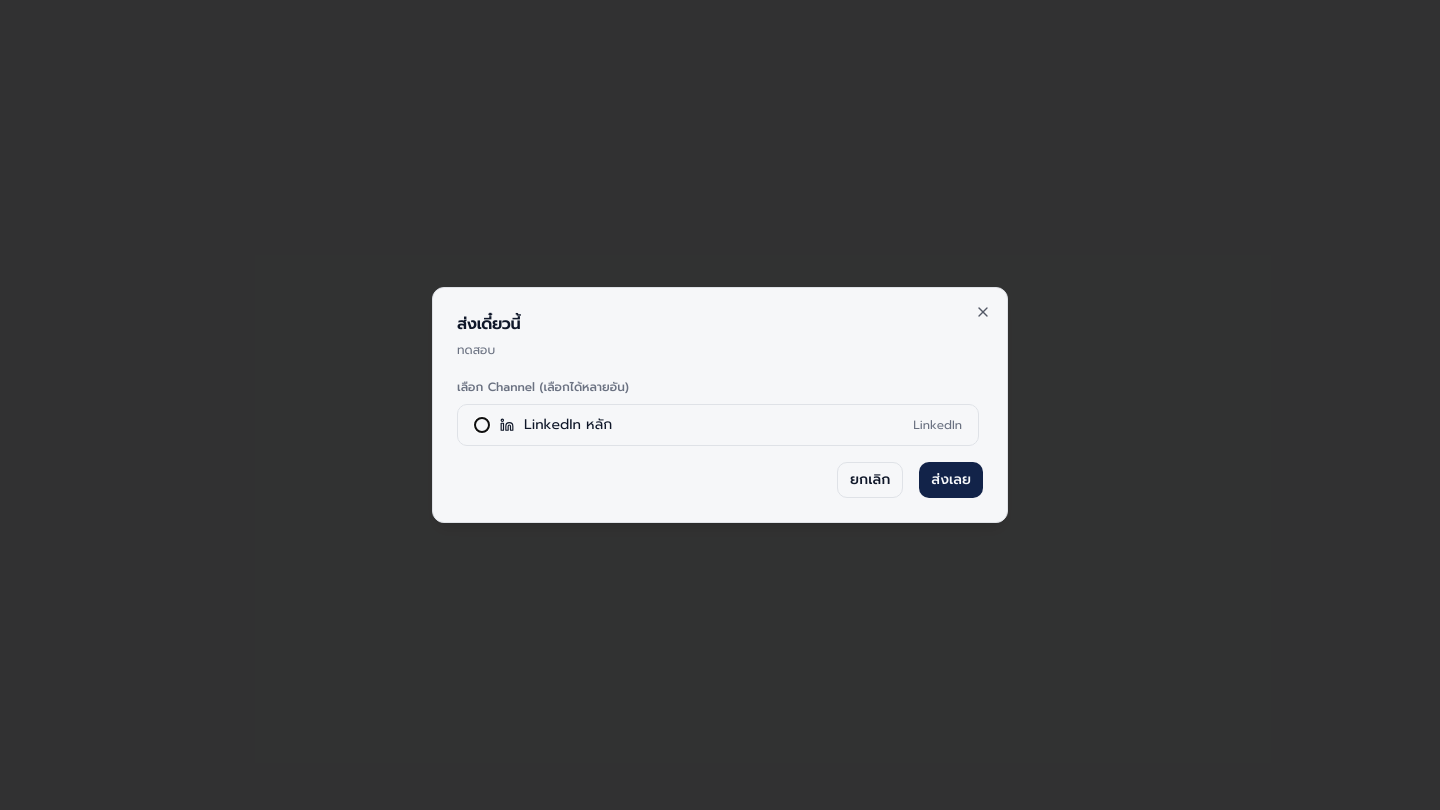
Test case: SchedulePublishDialog — ตัวอย่างข้อความโพสต์แบบอ่านอย่างเดียว › ไม่มีข้อความของ platform ที่เลือก → แสดงข้อความโพสต์สำรองพร้อมป้ายแหล่งที่มา
What coordinates should you click on to do the following:
click the checkbox
I would click on:
 (482, 425)
Its box is x1=474 y1=417 x2=490 y2=433.
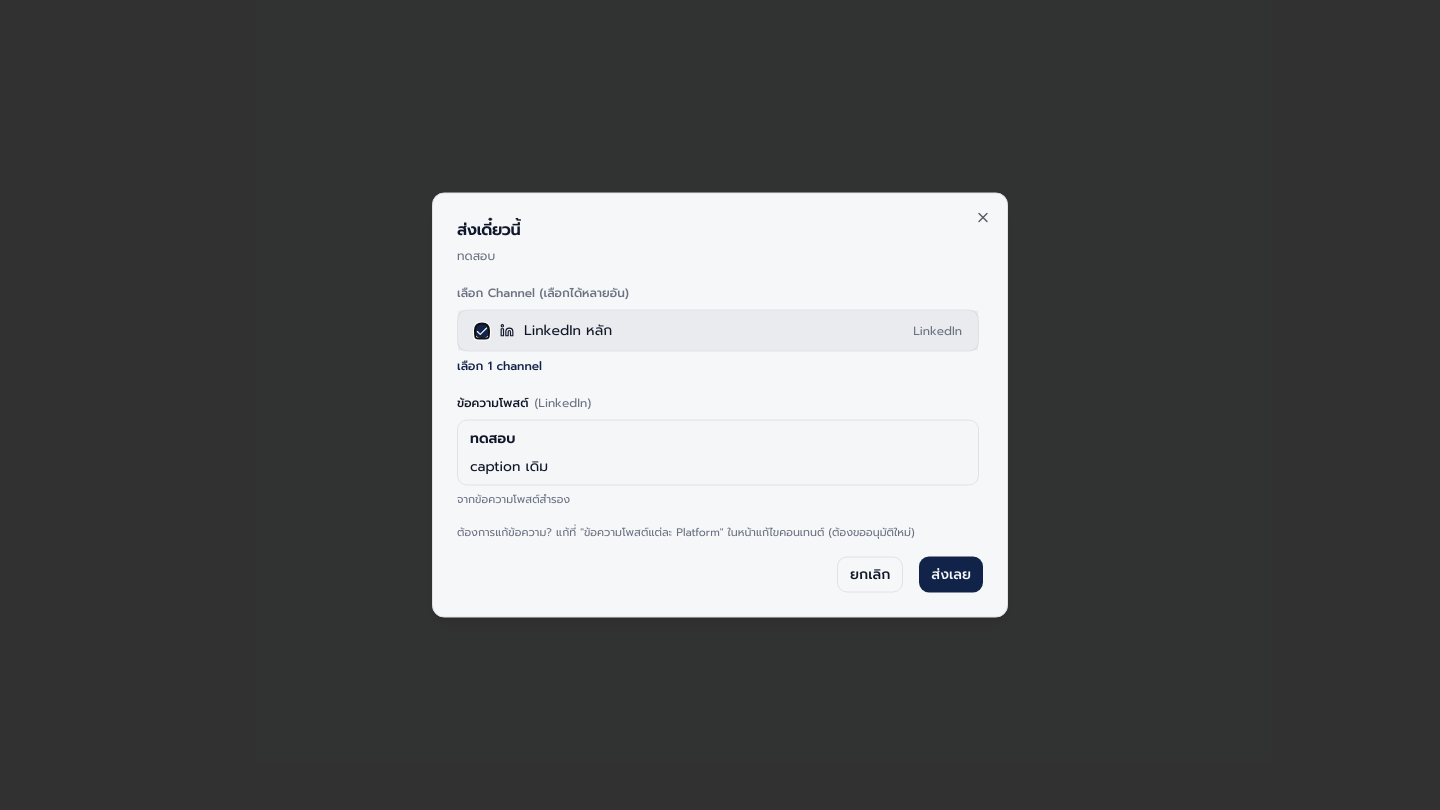
Now the element with test id "publish-preview-linkedin" shows "caption เดิม", box x1=470 y1=456 x2=548 y2=476
Now the element with test id "publish-preview-linkedin" shows "จากข้อความโพสต์สำรอง", box x1=457 y1=490 x2=570 y2=508
